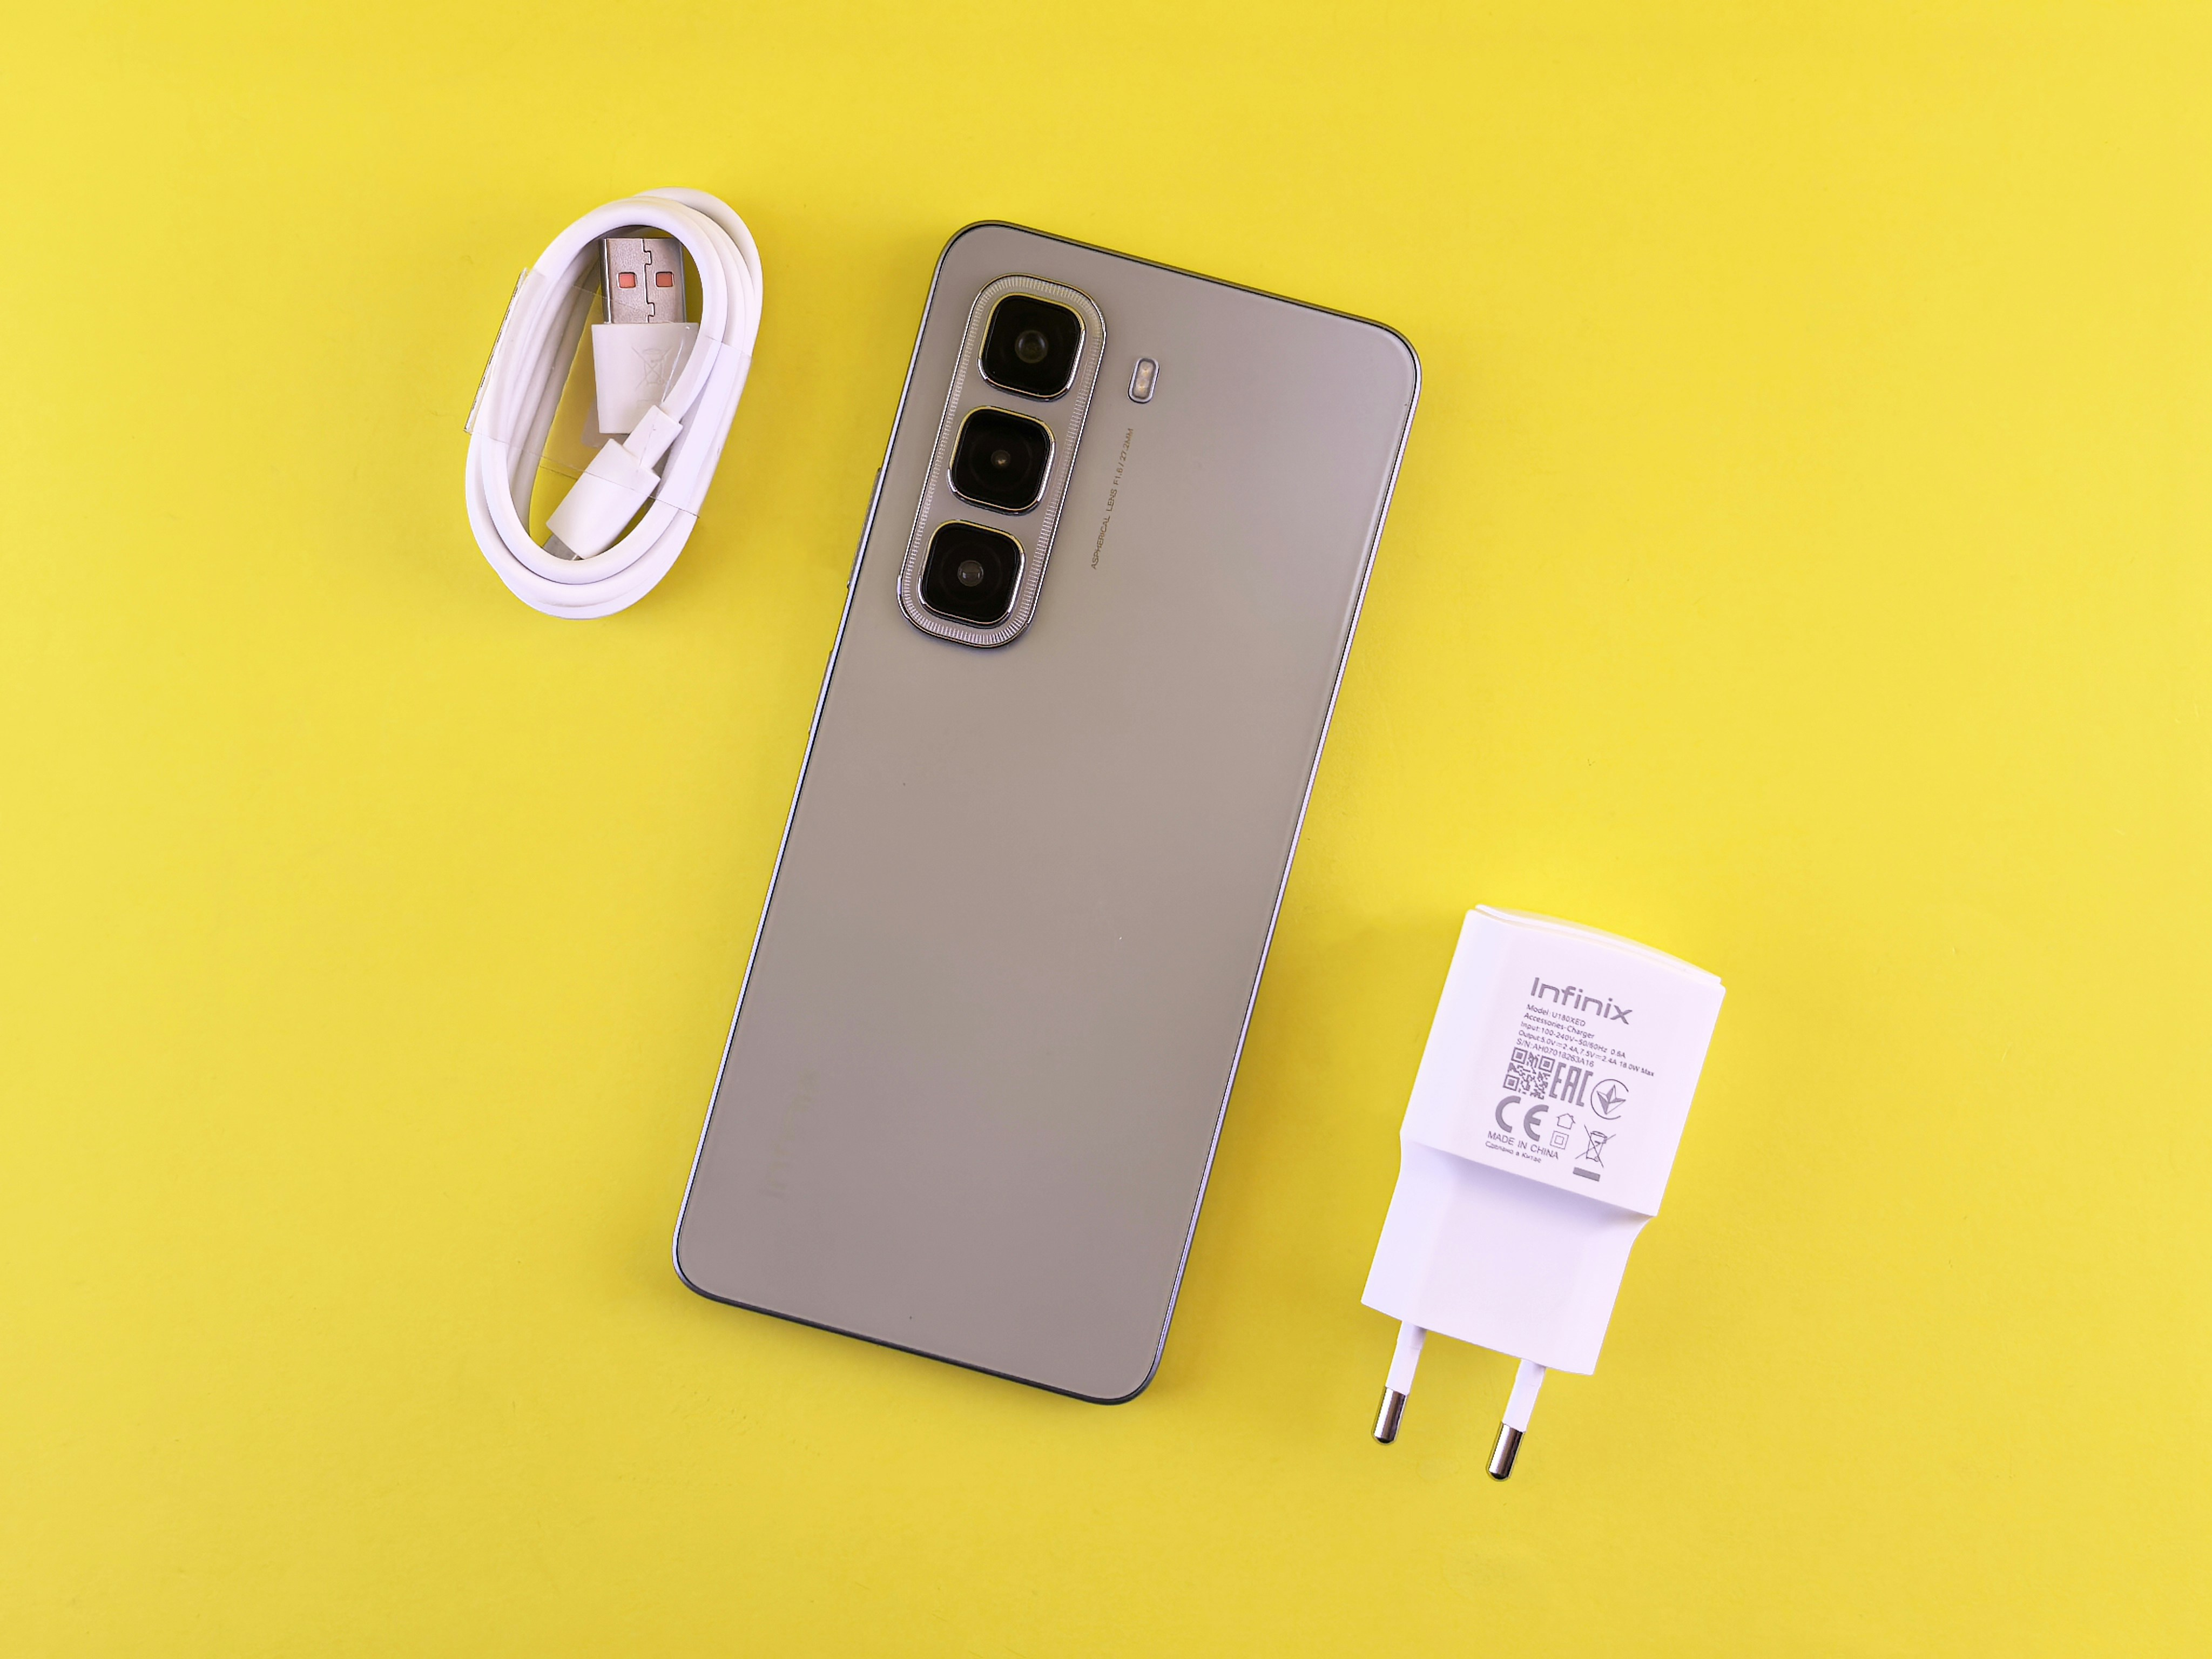p6: (667, 207, 1442, 1419)
